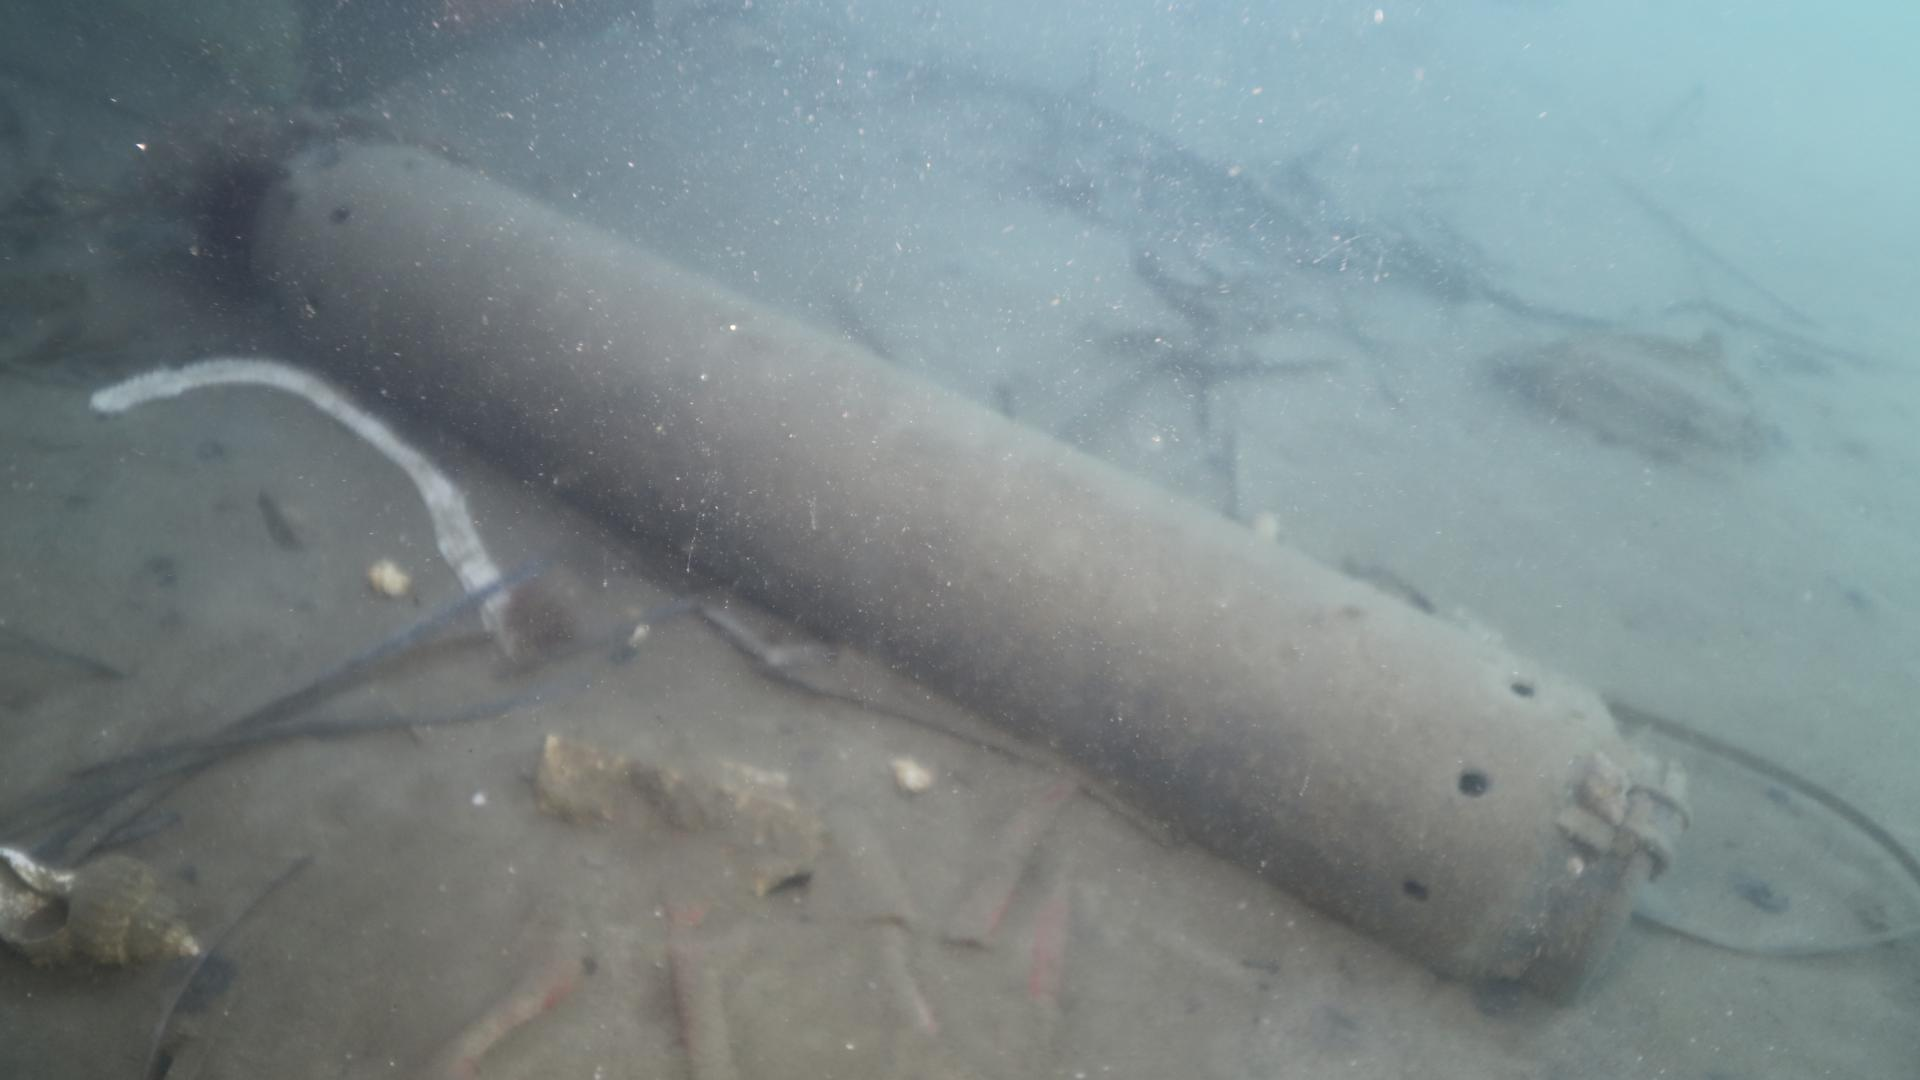eel fish trap: (261, 140, 1692, 1013)
